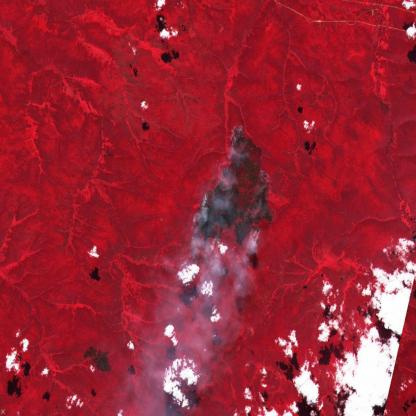fire: (190, 116, 273, 251)
